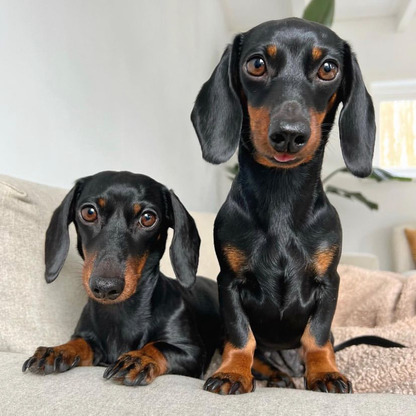dachshund: (203, 23, 382, 402), (42, 164, 212, 376)
